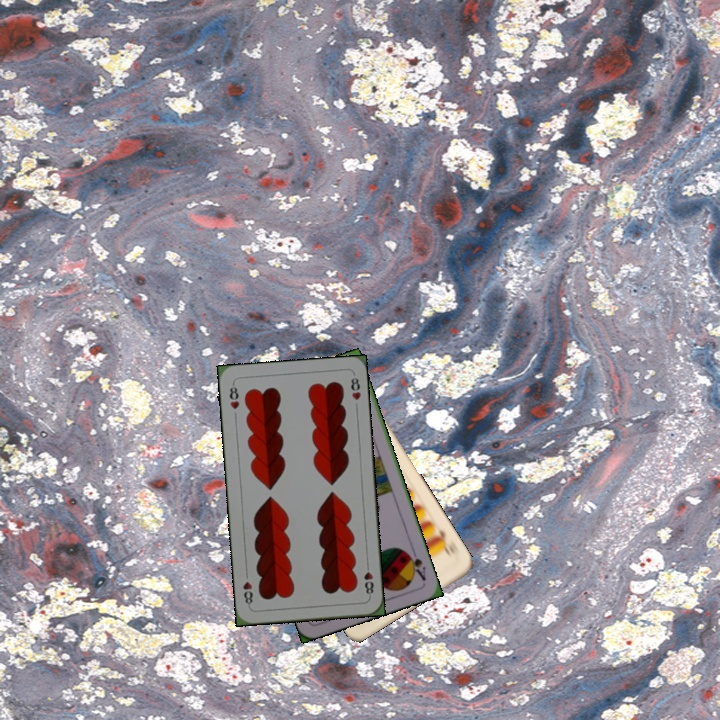E10: (430, 526, 456, 559)
H8: (360, 559, 376, 599), (225, 380, 242, 412)
SA: (402, 545, 428, 583)
